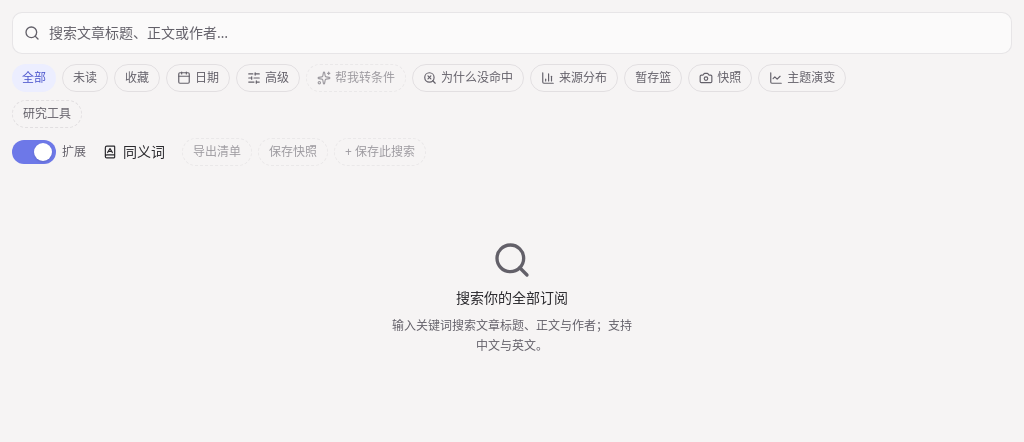
Scenario: N141 搜索快照（SearchPage） › 快照面板：无快照 → 诚实空态
Click the button with test id "snapshot-toggle": [720, 78] box 688,64 -> 752,92
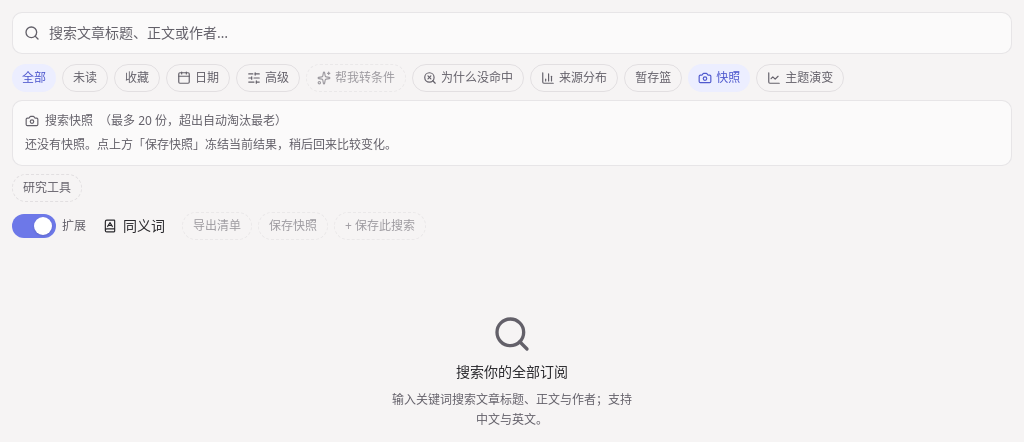
Expected: the element with test id "snapshot-panel" is shown, 12,100 -> 1012,166
Expected: the text "还没有快照。点上方「保存快照」冻结当前结果，稍后回来比较变化。" is shown, 25,136 -> 397,153
